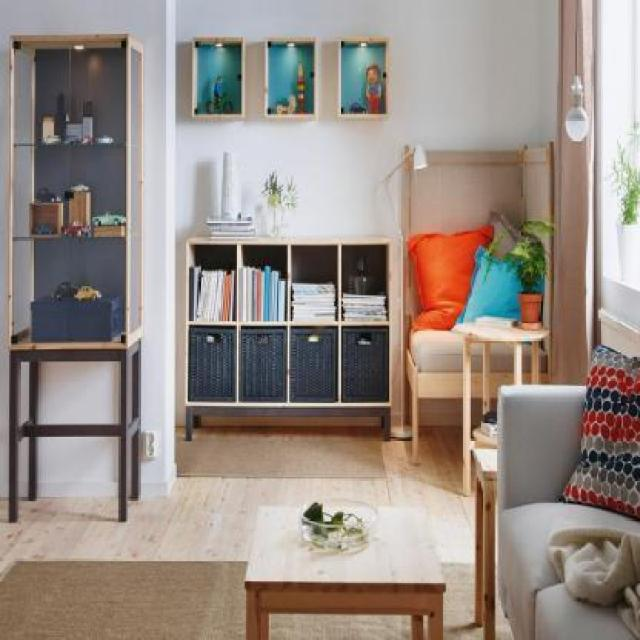tables: (243, 502, 446, 638)
